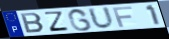1: (145, 4, 163, 26)
B: (20, 12, 46, 34)
F: (111, 6, 134, 28)
G: (67, 8, 94, 32)
U: (86, 6, 116, 30)
Z: (44, 11, 71, 33)
